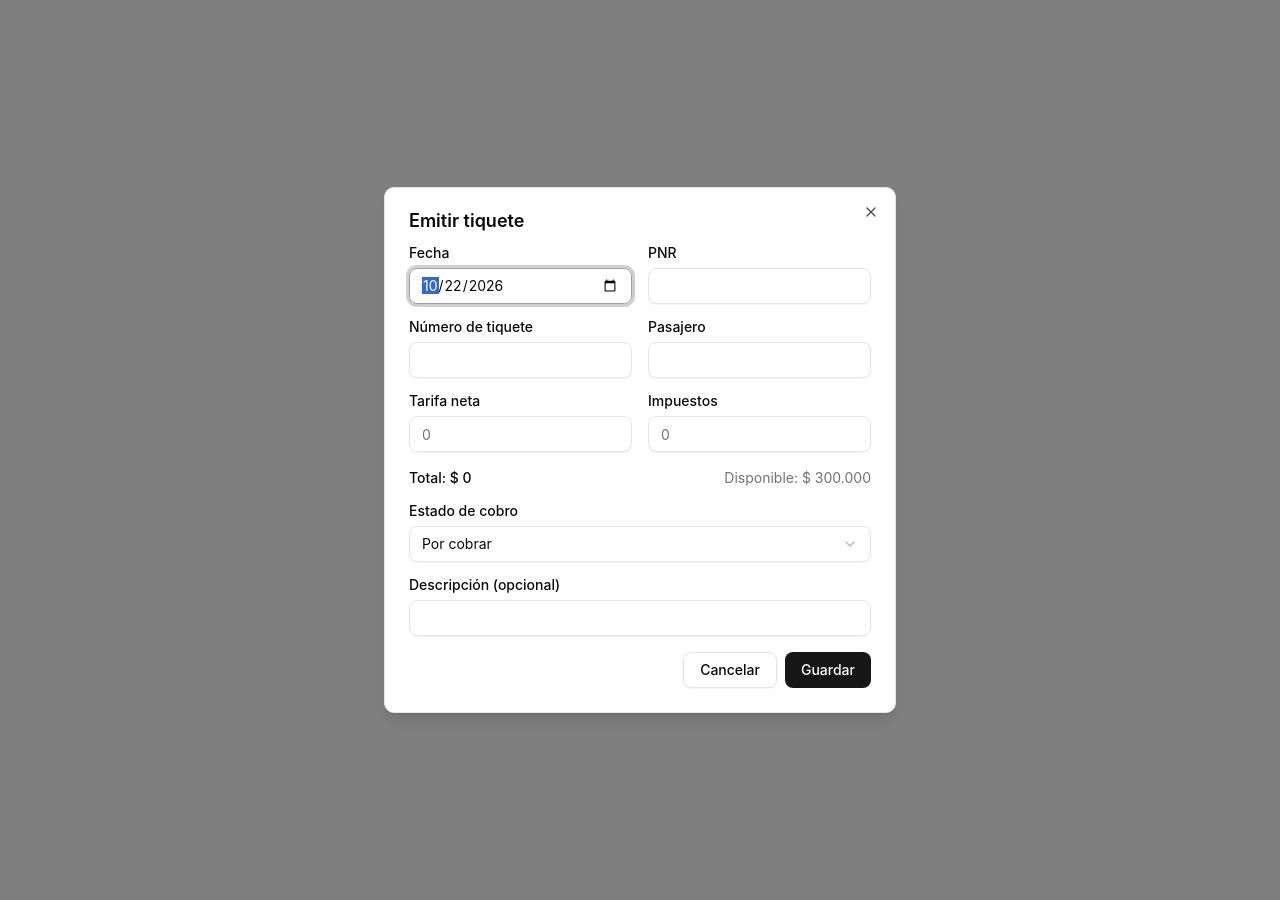
Test: IssueFormDialog (F18 CA-31) › calcula el total y avisa si supera el disponible
This screenshot has width=1280, height=900.
Expected: the heading "Emitir tiquete" is shown, [409,210,524,231]
Type "250000" into the field labelled "Tarifa neta" at coordinates (520, 434), box [409,416,632,452]
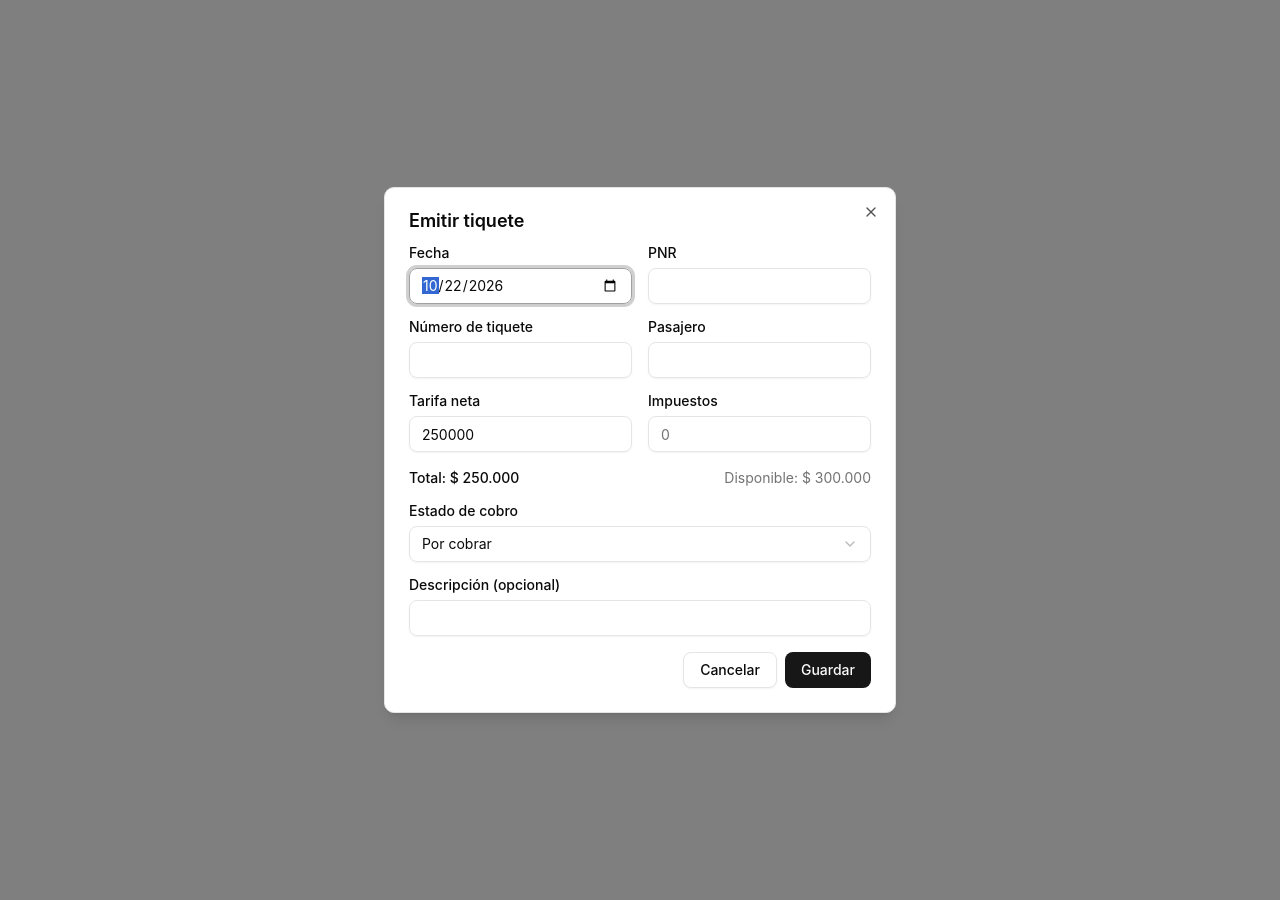
Type "50000" into the field labelled "Impuestos" at coordinates (760, 434), box [648,416,871,452]
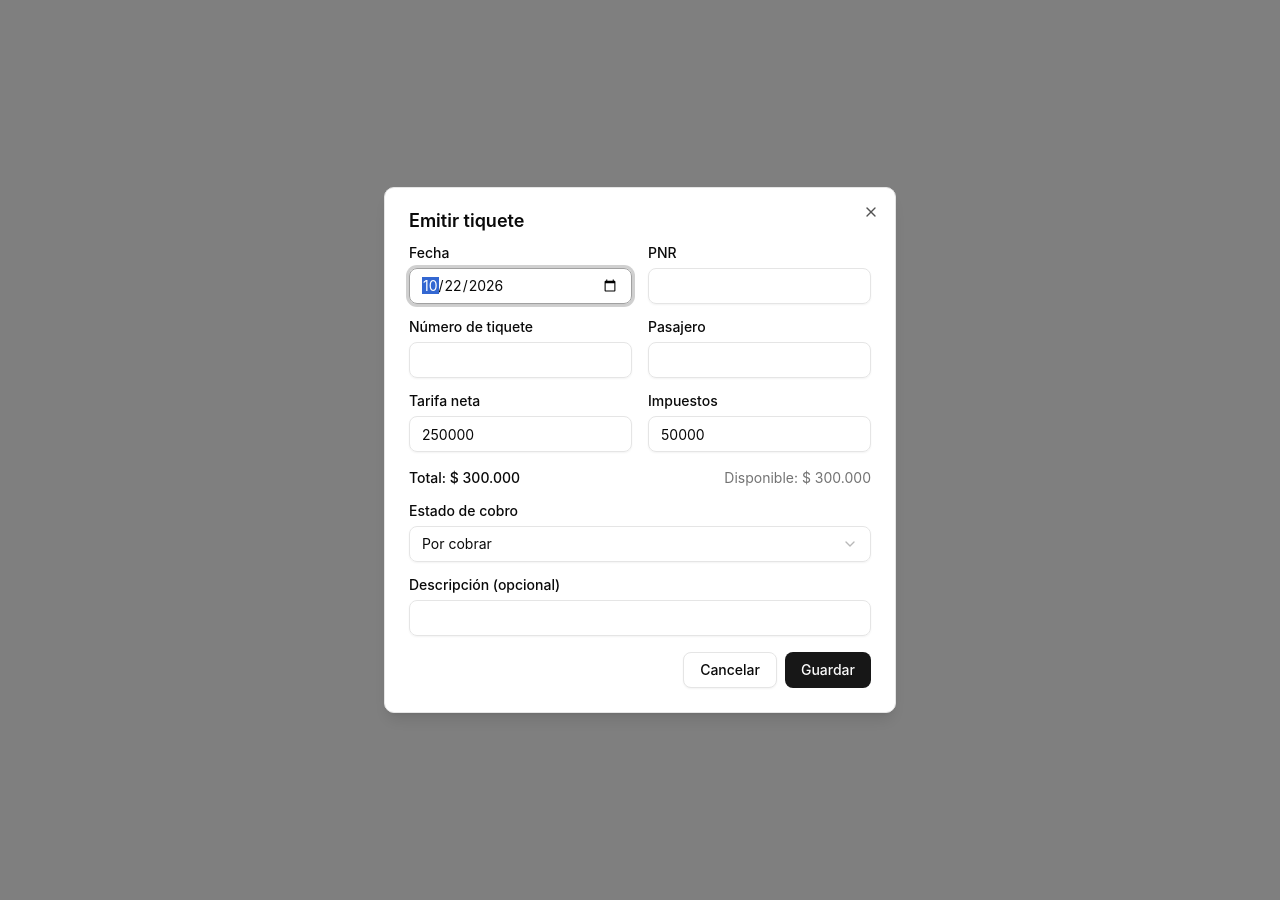
Expected: the text "Supera el disponible" is not shown
Now the text with test id "issue-total" reads "Total: $ 300.000", box [450,469,520,486]
Replace the text in the field labelled "Impuestos" with "60000" at coordinates (760, 434), box [648,416,871,452]
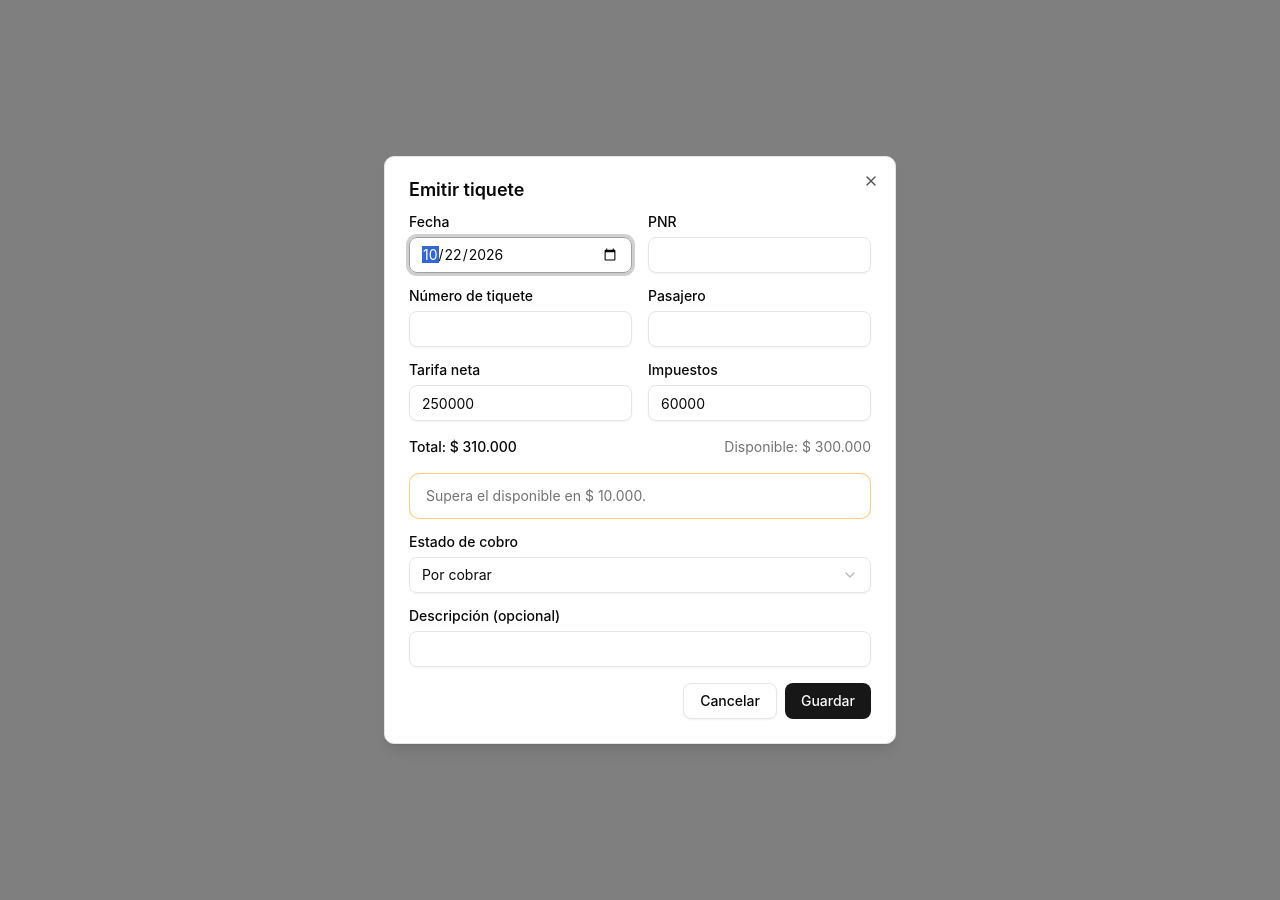
Now the text "Supera el disponible en $ 10.000." is shown, box [426,487,646,504]
